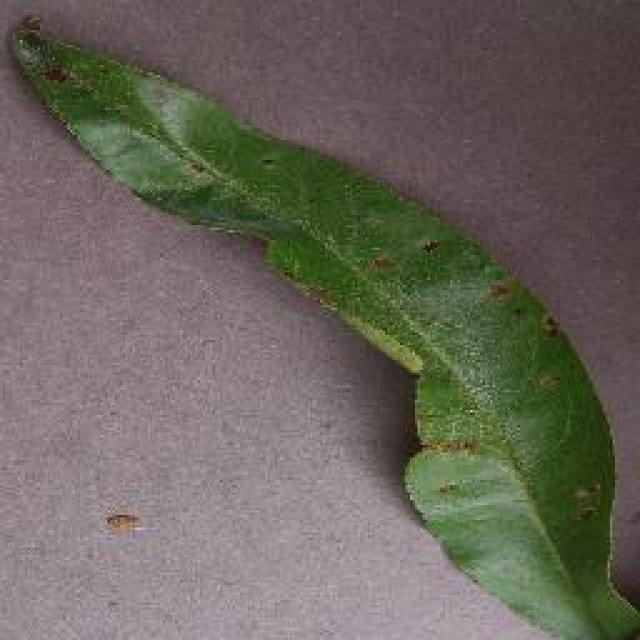Peach_Bacterial_Spot: (30, 15, 573, 407)
